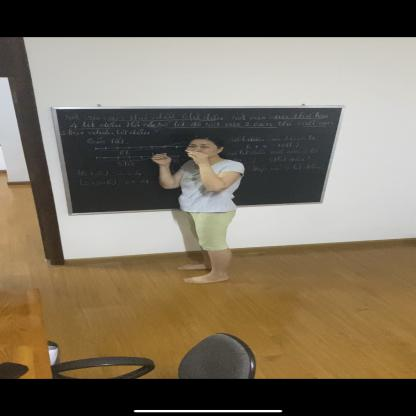cigarette: (184, 150, 192, 153)
person: (152, 132, 244, 286)
